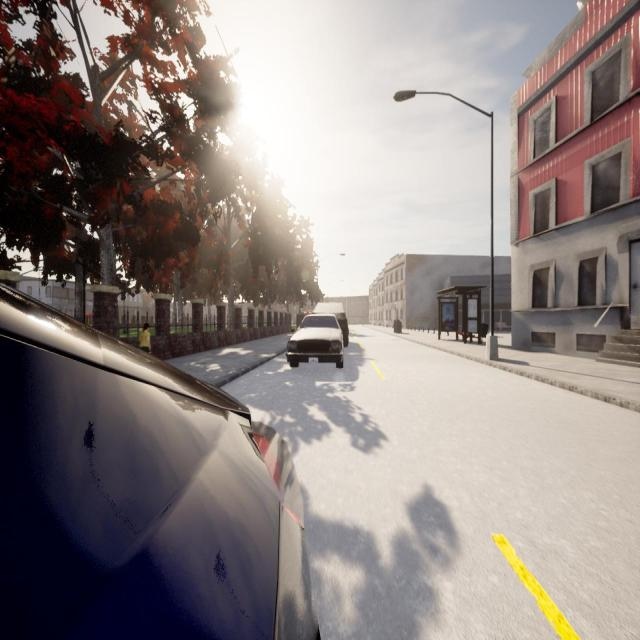Pedestrian: (139, 322, 151, 353)
Vehicle: (0, 288, 318, 640), (286, 314, 344, 369), (312, 302, 349, 346)
